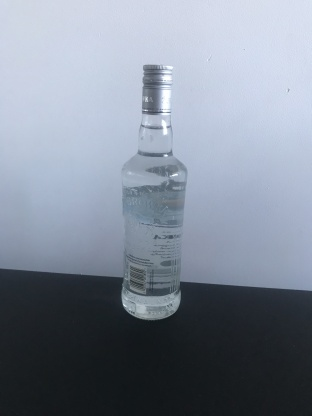nakretka: (140, 62, 174, 117)
